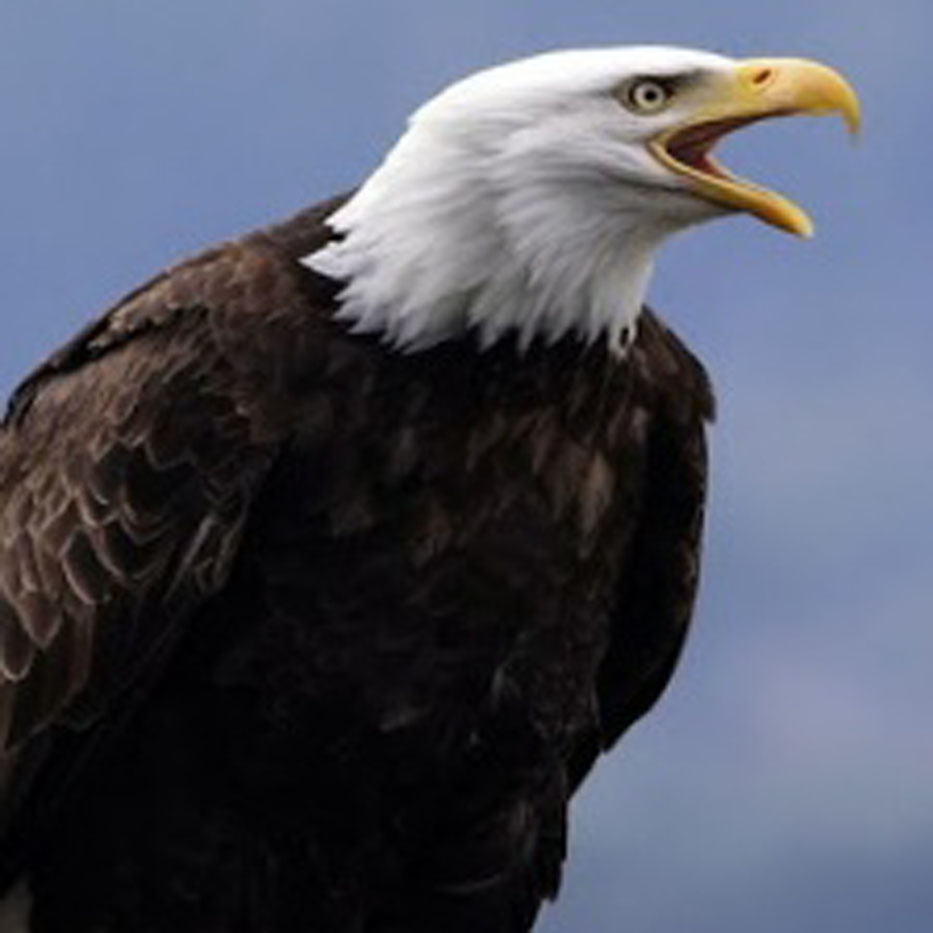Pengoyak Daging: (683, 45, 880, 267)
